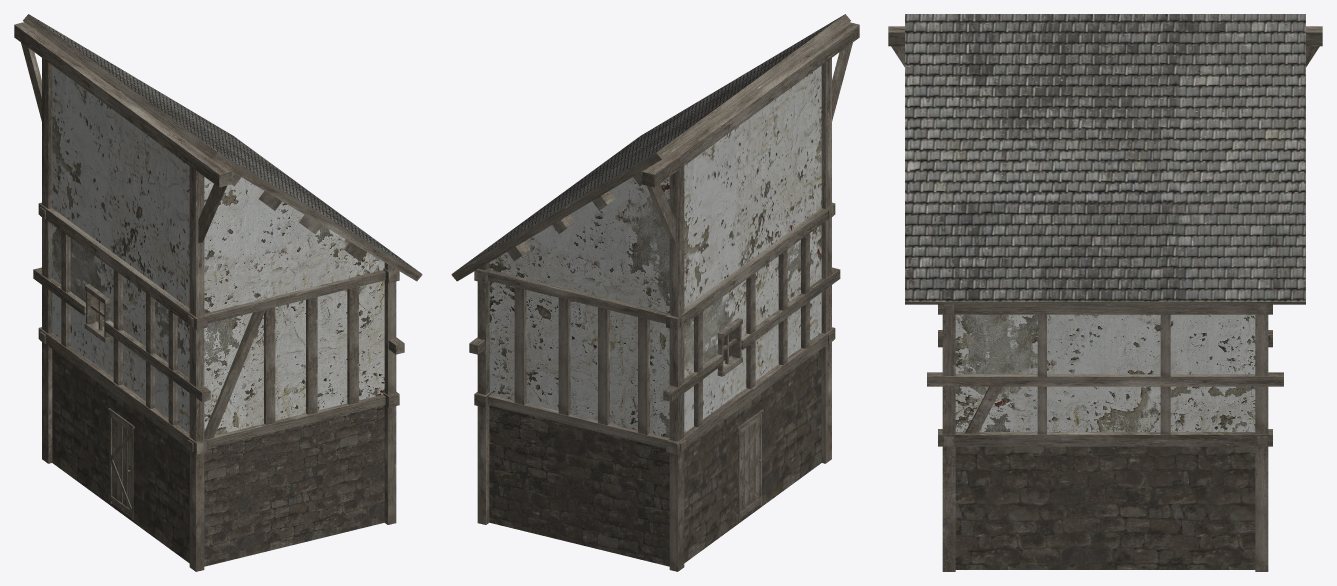
The model's file is house_narrow.glb.
3 views of the same model, side by side, from view 1: azimuth 30°, elevation 25°; view 2: azimuth 150°, elevation 25°; view 3: azimuth 270°, elevation 25° (orthographic). The views are drawn at different scales.
Parts seen in each view (by area): view 1: House_Material005_0, House_Material_0, House_Material001_0, House_Material006_0; view 2: House_Material005_0, House_Material_0, House_Material001_0, House_Material006_0; view 3: House_Material006_0, House_Material001_0, House_Material005_0, House_Material_0.
Part boxes in pixels (x1=…): House_Material005_0: x1=52, y1=65, x2=384, y2=435; House_Material_0: x1=14, y1=14, x2=422, y2=571; House_Material001_0: x1=52, y1=349, x2=384, y2=566; House_Material006_0: x1=30, y1=15, x2=421, y2=273; House_Material005_0: x1=489, y1=65, x2=821, y2=437; House_Material_0: x1=451, y1=14, x2=859, y2=571; House_Material001_0: x1=489, y1=349, x2=821, y2=566; House_Material006_0: x1=452, y1=15, x2=843, y2=273; House_Material006_0: x1=905, y1=14, x2=1305, y2=301; House_Material001_0: x1=955, y1=446, x2=1255, y2=569; House_Material005_0: x1=955, y1=314, x2=1255, y2=431; House_Material_0: x1=888, y1=14, x2=1322, y2=571.
Bounding box in the file's own units: 5.24 × 10.2 × 8.79.
Materials: 6 (6 with a texture image).
